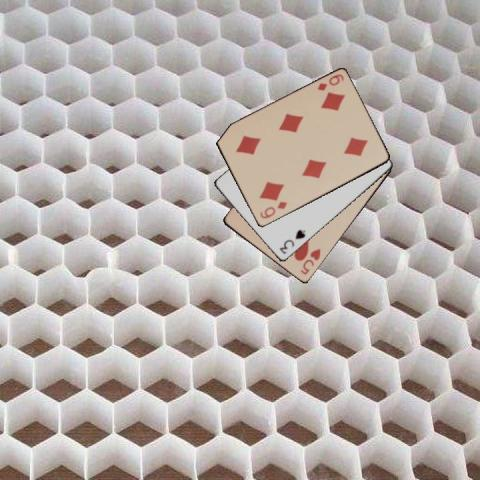3s: (276, 227, 306, 256)
5h: (297, 245, 322, 277)
6d: (256, 199, 288, 220), (314, 71, 345, 92)
